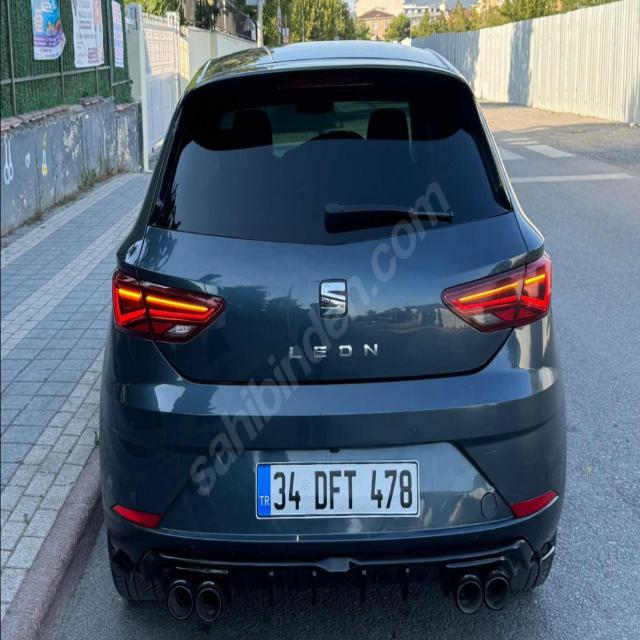seat: (318, 274, 350, 322)
